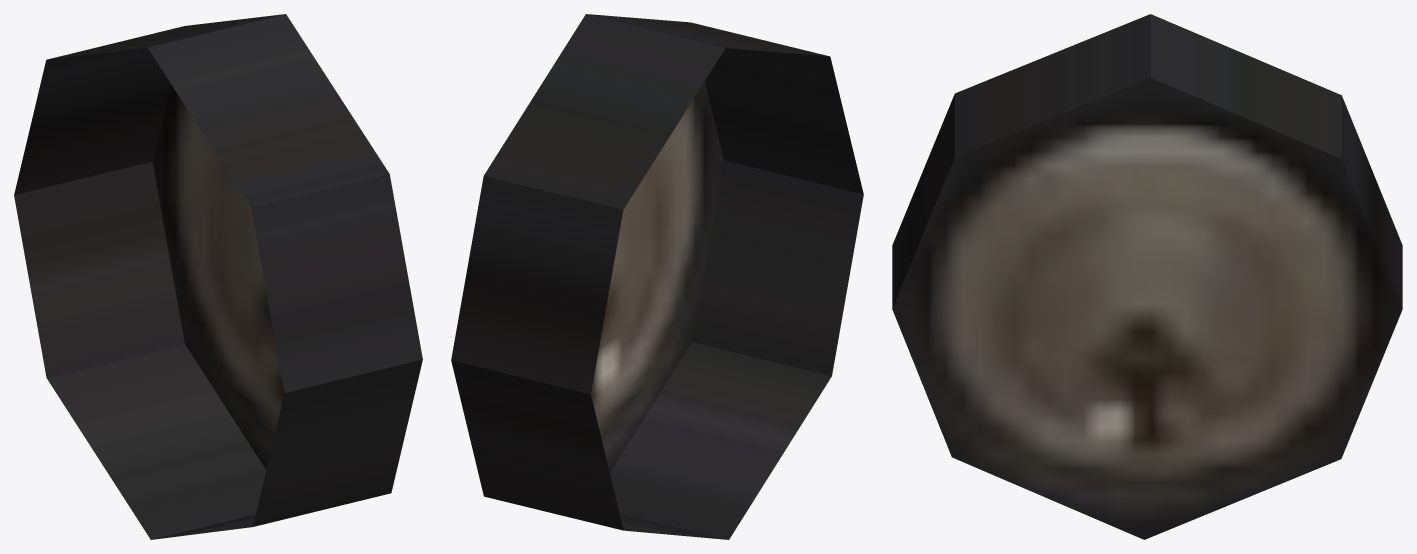
File: anahtar_deligi.fbx
3 renders of one model, left to right at view 1: azimuth 30°, elevation 25°; view 2: azimuth 150°, elevation 25°; view 3: azimuth 270°, elevation 25°, orthographic. The views are drawn at different scales.
Visible parts, largest first — view 1: pano_kesici.001; view 2: pano_kesici.001; view 3: pano_kesici.001.
Part boxes in pixels (left/top/right/bottom): pano_kesici.001: left=14, top=14, right=422, bottom=539; pano_kesici.001: left=451, top=14, right=863, bottom=539; pano_kesici.001: left=892, top=14, right=1402, bottom=539.
Bounding box in the file's own units: 0.11 × 0.3722 × 0.3718.
1 material, 1 textured.
